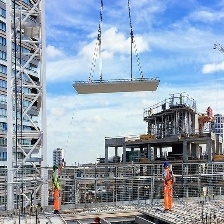helmet: (163, 162, 169, 168), (52, 165, 58, 171)
person: (159, 161, 177, 213), (49, 163, 63, 216)
vest: (163, 169, 176, 191), (53, 172, 62, 190)
